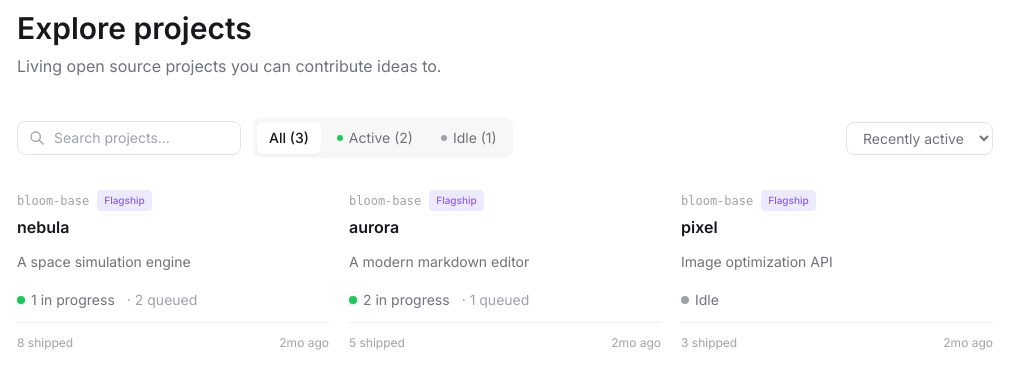
it: ExplorePage › Search › filters projects by name when typing in search
Expected: the text "aurora" is shown, [349,217,399,237]
Expected: the text "pixel" is shown, [681,217,718,237]
In the field with placeholder "Search projects...": (129, 138) [17,121,241,155], type "aurora"
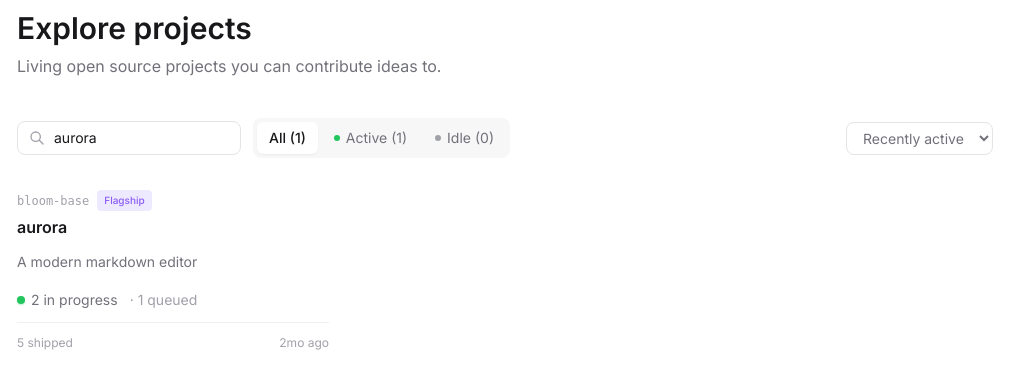
Expected: the text "aurora" is shown, [17,217,67,237]
Expected: the link "pixel" is gone
Expected: the link "nebula" is gone
